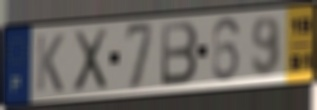6: (211, 15, 242, 85)
7: (123, 21, 155, 93)
9: (250, 14, 282, 79)
B: (159, 20, 200, 89)
K: (34, 32, 66, 94)
X: (71, 25, 110, 95)
